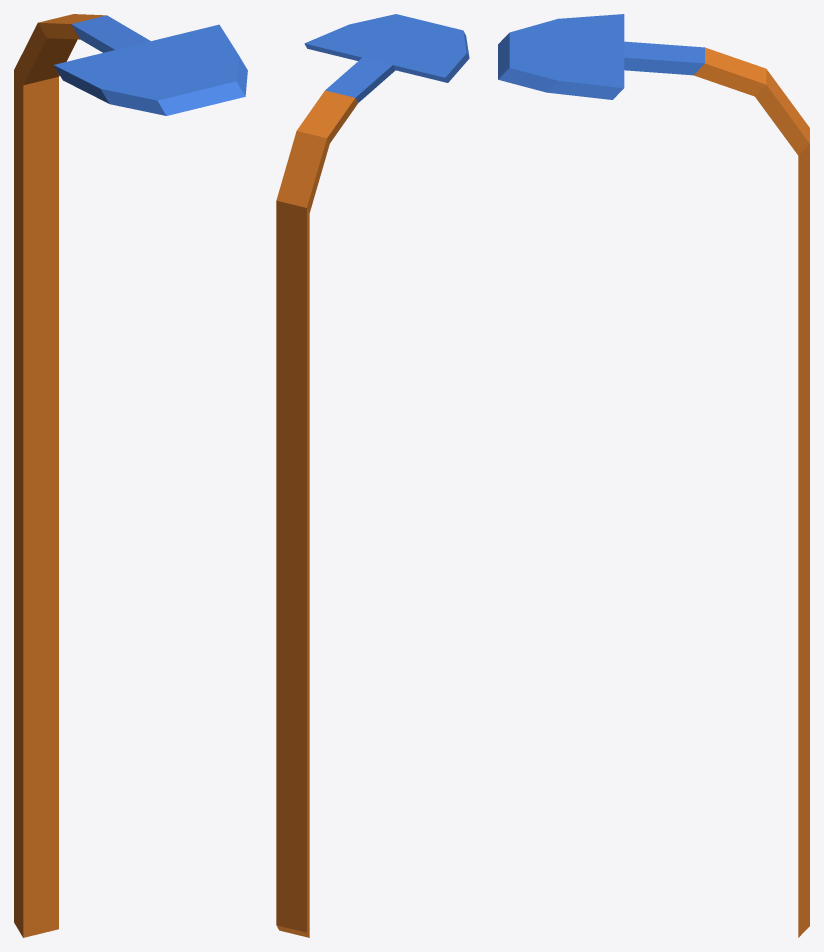
Rendered from тяпка.fbx.
The picture shows the model from 3 angles, left to right: view 1: azimuth 30°, elevation 25°; view 2: azimuth 150°, elevation 25°; view 3: azimuth 270°, elevation 25°; orthographic projection. The views are drawn at different scales.
Visible parts, largest first — view 1: Plane; view 2: Plane; view 3: Plane.
Part boxes in pixels (bbox=[...]): Plane: bbox=[14, 14, 247, 937]; Plane: bbox=[276, 14, 469, 937]; Plane: bbox=[498, 14, 809, 937].
Bounding box in the file's own units: 46.38 × 252 × 80.98.
